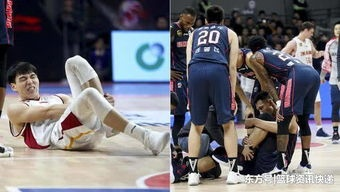falling: (202, 88, 286, 180)
